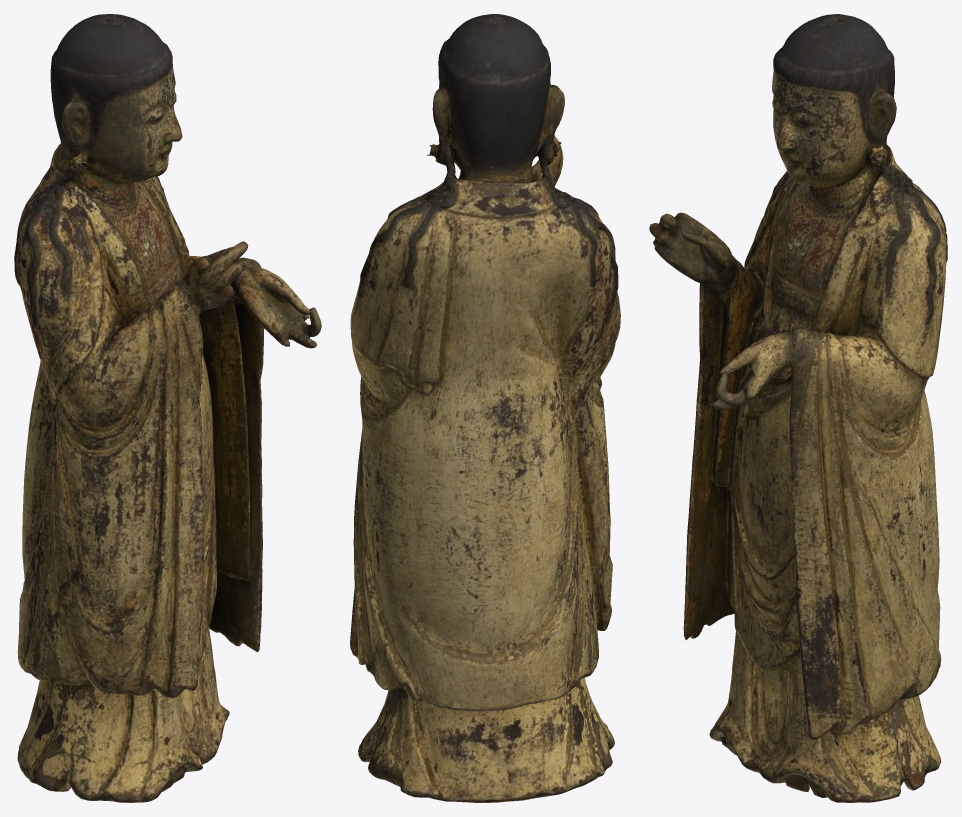
The model's file is standing.glb.
3 views of the same model, side by side, from view 1: azimuth 30°, elevation 25°; view 2: azimuth 150°, elevation 25°; view 3: azimuth 270°, elevation 25° (orthographic).
Parts seen in each view (by area): view 1: Object_2; view 2: Object_2; view 3: Object_2.
Part boxes in pixels (x1=…): Object_2: x1=14, y1=14, x2=321, y2=802; Object_2: x1=350, y1=14, x2=620, y2=802; Object_2: x1=649, y1=14, x2=947, y2=802.
Size of the model in its own units: 0.1783 by 0.4892 by 0.1807.
1 material, 1 textured.
